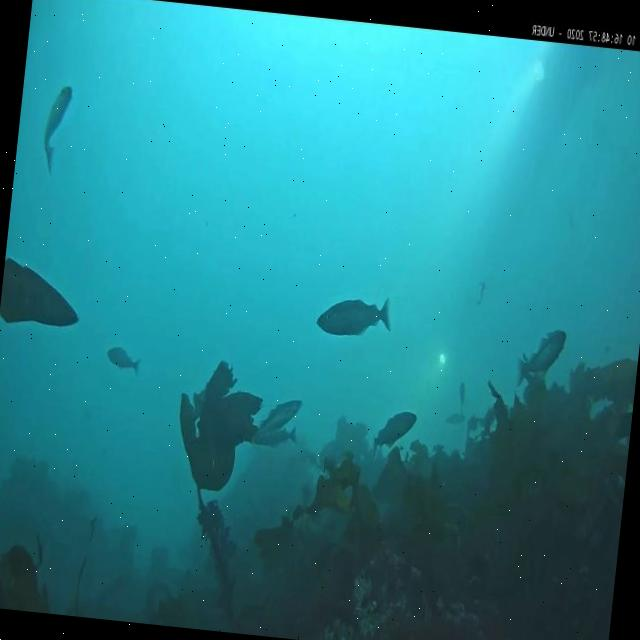fish: (0, 255, 86, 331), (317, 292, 393, 341), (514, 325, 567, 394), (40, 81, 74, 178), (370, 407, 418, 462), (246, 421, 296, 448), (104, 345, 140, 373), (444, 409, 466, 428), (457, 380, 468, 410)
